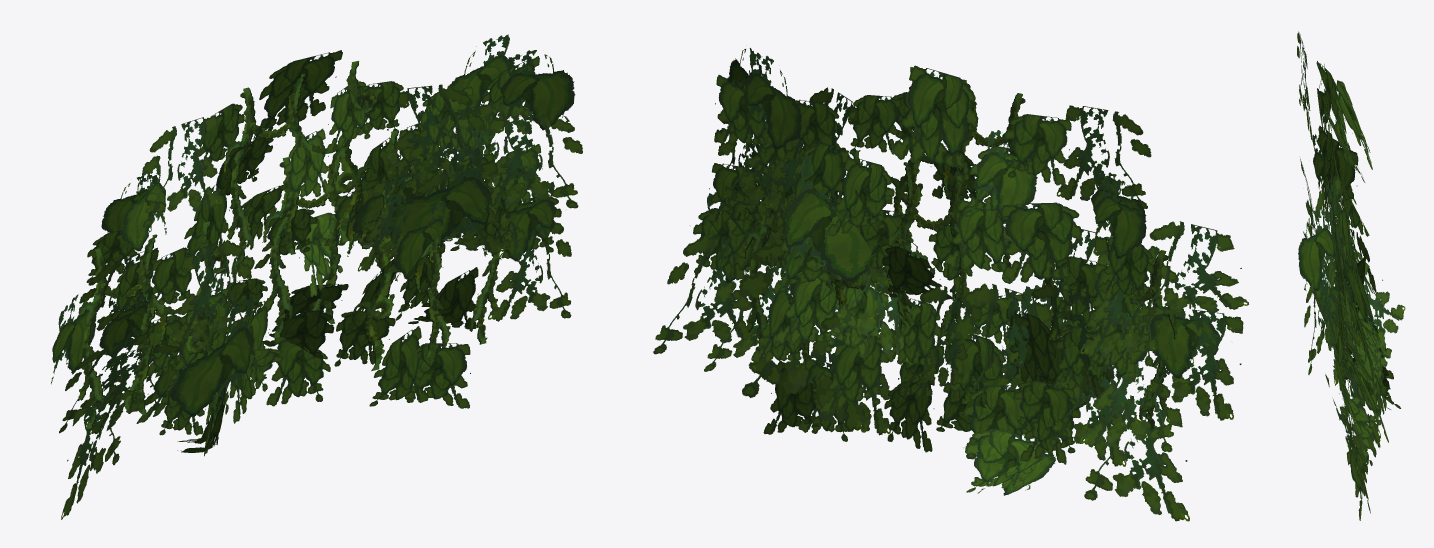
File: ivyclump2.fbx
The picture shows the model from 3 angles, left to right: view 1: azimuth 30°, elevation 25°; view 2: azimuth 150°, elevation 25°; view 3: azimuth 270°, elevation 25°; orthographic projection. The views are drawn at different scales.
Visible parts, largest first — view 1: ivywall2; view 2: ivywall2; view 3: ivywall2.
Boxes of the visible parts, left/top/right/bottom form: ivywall2: left=51, top=34, right=582, bottom=519; ivywall2: left=653, top=48, right=1248, bottom=521; ivywall2: left=1297, top=31, right=1405, bottom=520.
Bounding box in the file's own units: 462 × 302 × 101.
